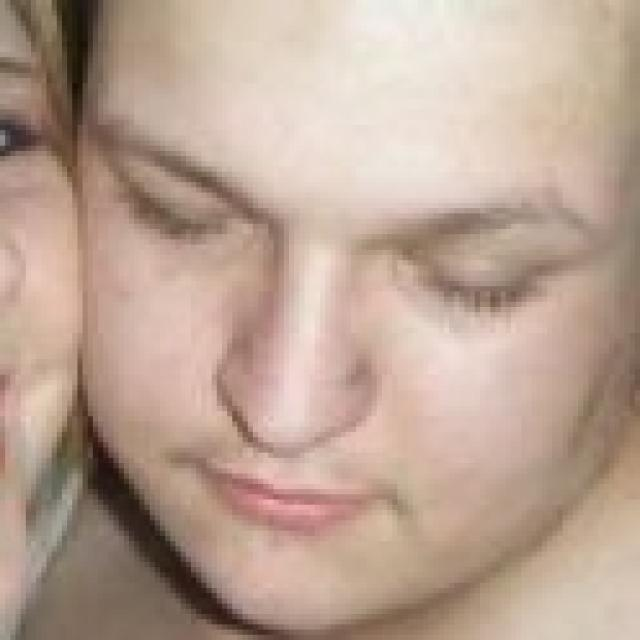Eyeclosed: (138, 190, 234, 259), (430, 261, 520, 319)
